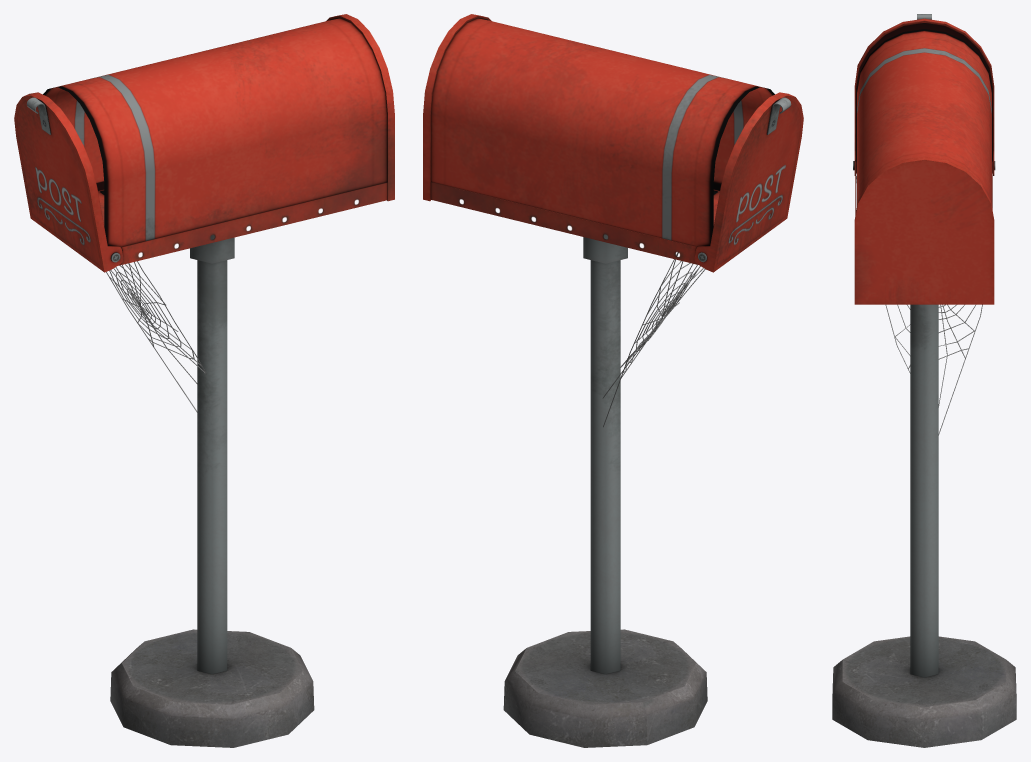
File: mailbox_lp.glb
3 views of the same model, side by side, from view 1: azimuth 30°, elevation 25°; view 2: azimuth 150°, elevation 25°; view 3: azimuth 270°, elevation 25° (orthographic). The views are drawn at different scales.
Parts seen in each view (by area): view 1: polySurface48, polySurface47; view 2: polySurface48, polySurface47; view 3: polySurface48, polySurface47.
Part boxes in pixels (x1=…): polySurface48: x1=14, y1=14, x2=394, y2=747; polySurface47: x1=106, y1=261, x2=206, y2=412; polySurface48: x1=423, y1=14, x2=803, y2=747; polySurface47: x1=602, y1=252, x2=705, y2=427; polySurface48: x1=832, y1=14, x2=1016, y2=747; polySurface47: x1=856, y1=176, x2=982, y2=435.
Bounding box in the file's own units: 2.75 × 5.22 × 1.42.
Materials: 2 (1 with a texture image).
